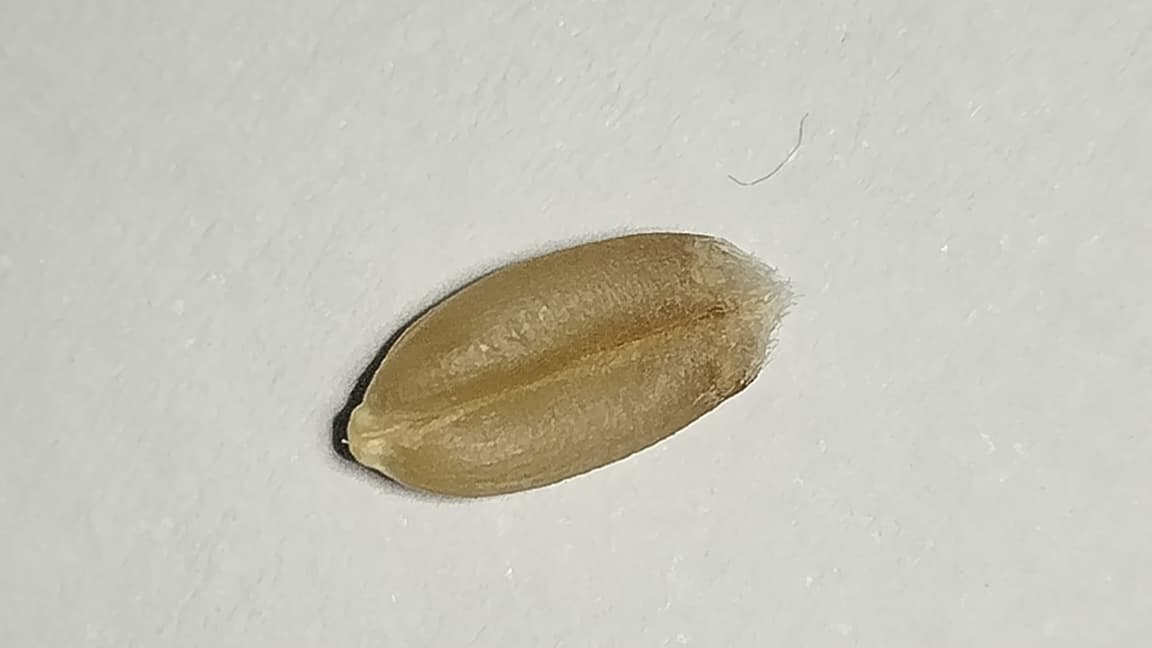healthy: (349, 232, 790, 495)
